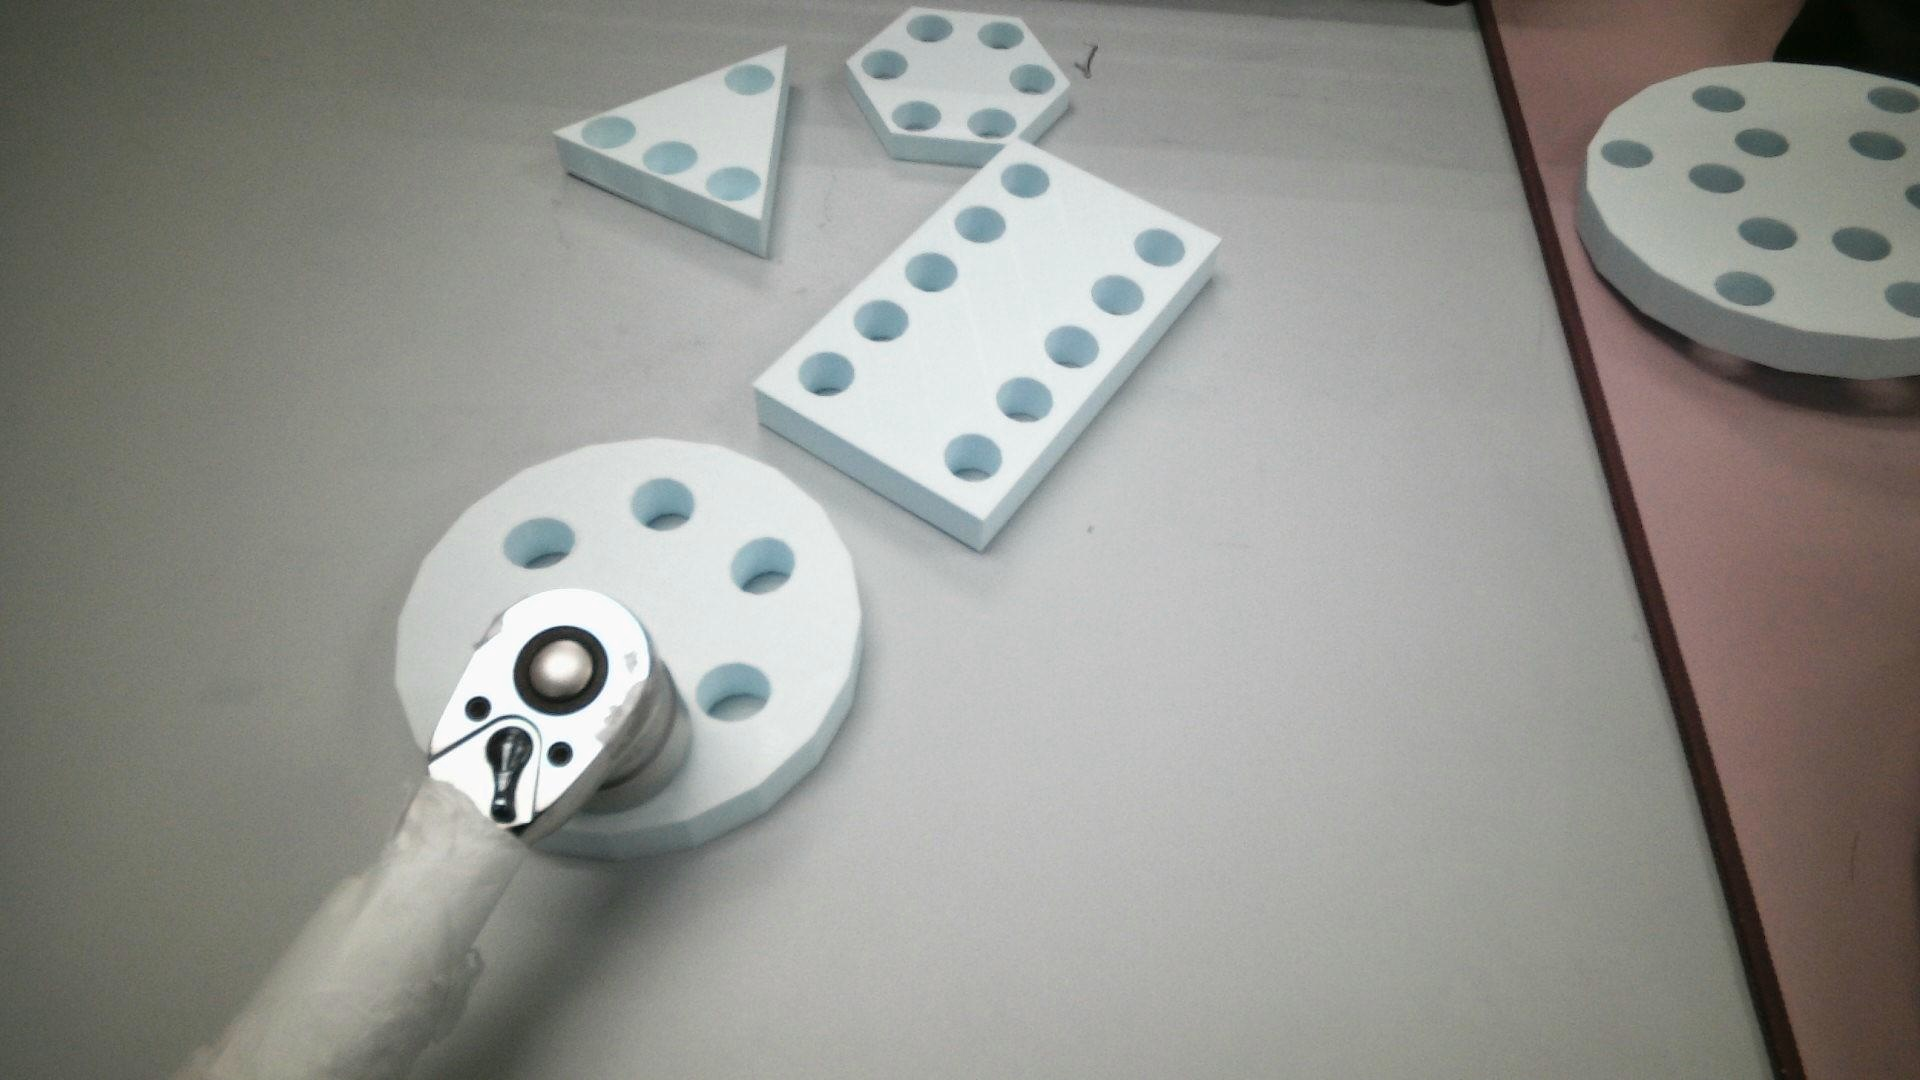hole: (694, 662, 770, 735), (728, 535, 802, 603), (626, 473, 699, 535), (944, 429, 1010, 484), (506, 518, 570, 572), (1847, 119, 1907, 171), (1712, 265, 1776, 311), (851, 298, 913, 345), (1687, 153, 1749, 200), (997, 371, 1050, 425), (1091, 272, 1149, 320), (641, 136, 696, 179), (798, 353, 855, 396), (1829, 227, 1894, 262), (1597, 131, 1655, 170), (1131, 225, 1185, 268), (705, 167, 762, 204), (727, 61, 781, 99), (1689, 82, 1743, 120), (1048, 323, 1095, 367), (1865, 82, 1915, 121), (1737, 211, 1785, 251), (1005, 61, 1056, 98), (893, 98, 945, 133), (955, 207, 1005, 244), (911, 249, 953, 291), (967, 105, 1014, 141), (582, 113, 630, 148), (905, 15, 955, 47), (1737, 129, 1791, 160), (1006, 162, 1048, 200), (978, 21, 1025, 51), (862, 47, 905, 80)
obj: (742, 132, 1225, 560), (378, 418, 858, 845), (1571, 36, 1920, 400), (555, 25, 808, 269), (833, 1, 1091, 160)
wrench: (509, 618, 625, 719)
